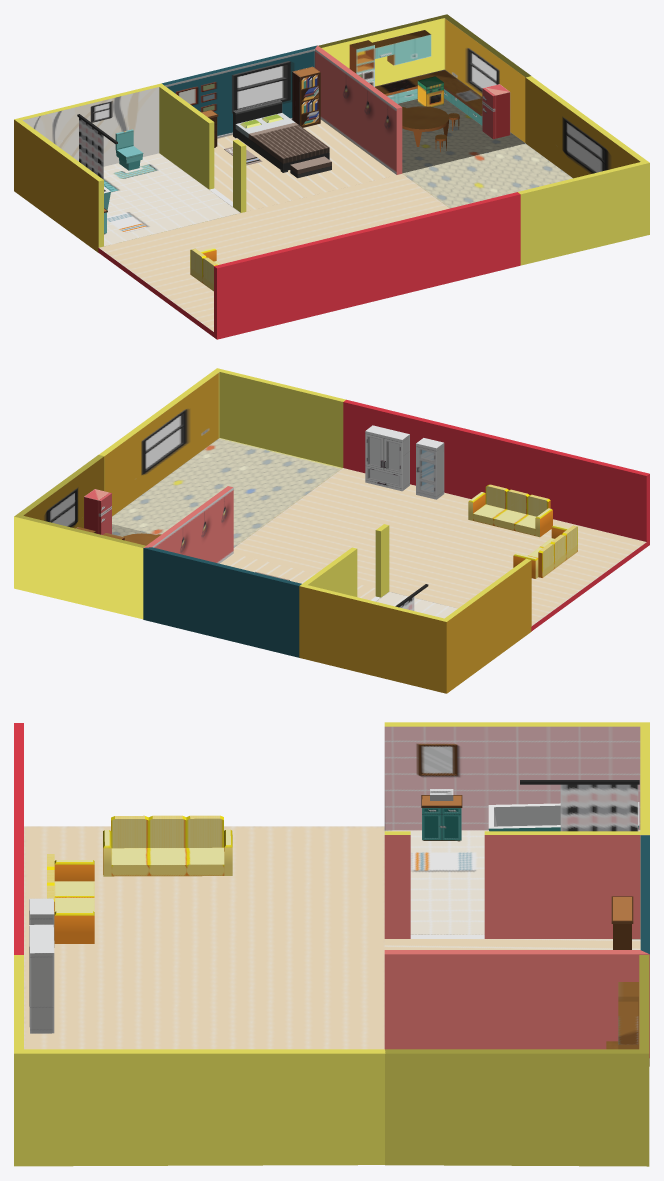
Rendered from interior.fbx.
The picture shows the model from 3 angles, top to bottom: view 1: azimuth 30°, elevation 25°; view 2: azimuth 150°, elevation 25°; view 3: azimuth 270°, elevation 25°; orthographic projection. The views are drawn at different scales.
Parts seen in each view (by area): view 1: Plane001; view 2: Plane001; view 3: Plane001.
Boxes of the visible parts, box(x1,y1,x2,y2) form: Plane001: box(14, 14, 649, 339); Plane001: box(14, 368, 649, 693); Plane001: box(14, 722, 649, 1166).
Size of the model in its own units: 2658 by 424 by 2160.
